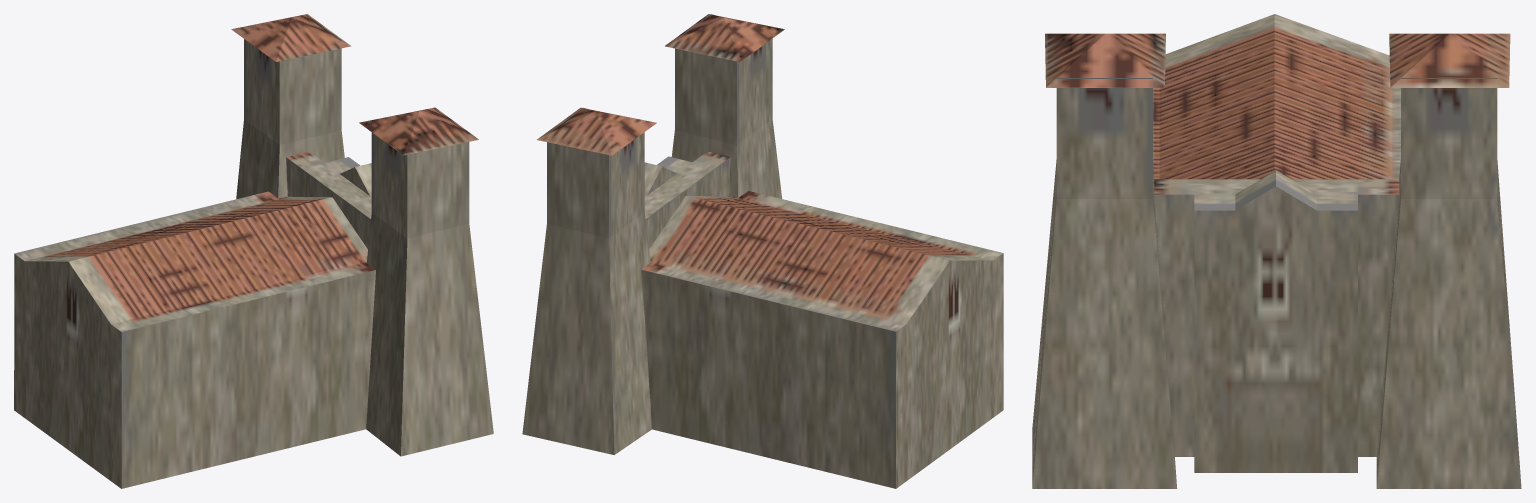
File: lod_des_adobech.obj
The picture shows the model from 3 angles, left to right: view 1: azimuth 30°, elevation 25°; view 2: azimuth 150°, elevation 25°; view 3: azimuth 270°, elevation 25°; orthographic projection. The views are drawn at different scales.
Parts seen in each view (by area): view 1: lod_des_adobech; view 2: lod_des_adobech; view 3: lod_des_adobech.
Part boxes in pixels (x1,y1,x2,y2): lod_des_adobech: (14, 14, 493, 488); lod_des_adobech: (522, 14, 1003, 488); lod_des_adobech: (1032, 14, 1521, 488).
Bounding box in the file's own units: 11.44 × 10.24 × 10.7.
Materials: 1 (1 with a texture image).
